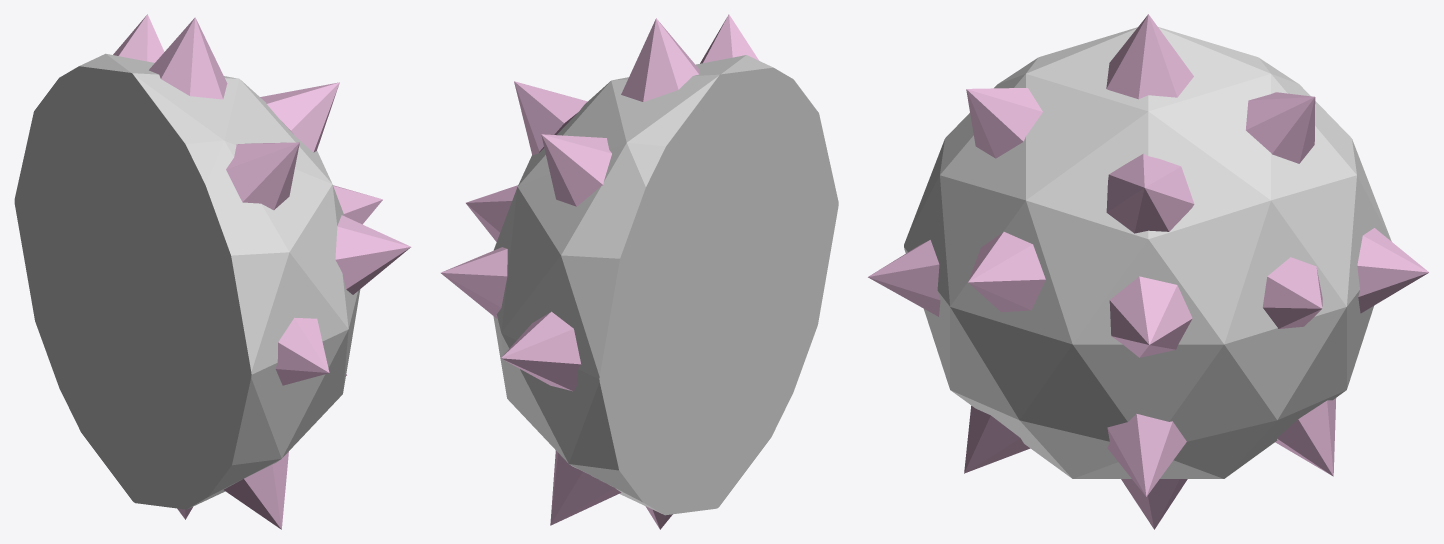
3 views of the same model, side by side, from view 1: azimuth 30°, elevation 25°; view 2: azimuth 150°, elevation 25°; view 3: azimuth 270°, elevation 25° (orthographic). The views are drawn at different scales.
Visible parts, largest first — view 1: Icosphere.001; view 2: Icosphere.001; view 3: Icosphere.001.
Boxes of the visible parts, bbox=[...] form: Icosphere.001: bbox=[14, 14, 410, 529]; Icosphere.001: bbox=[440, 14, 838, 529]; Icosphere.001: bbox=[868, 14, 1428, 529].
Bounding box in the file's own units: 122 × 234 × 229.
